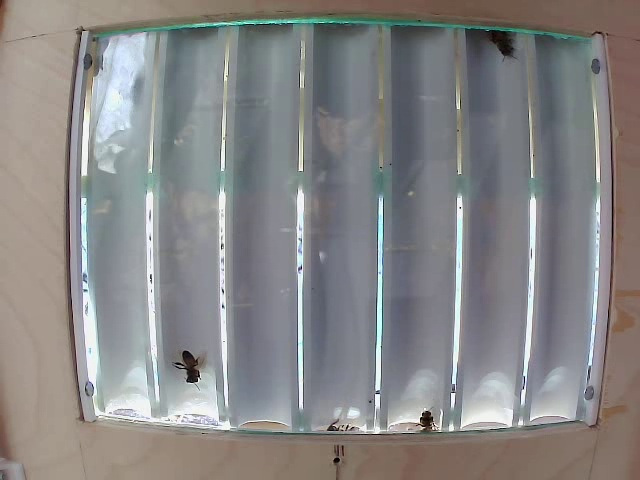bee: (160, 345, 209, 396)
